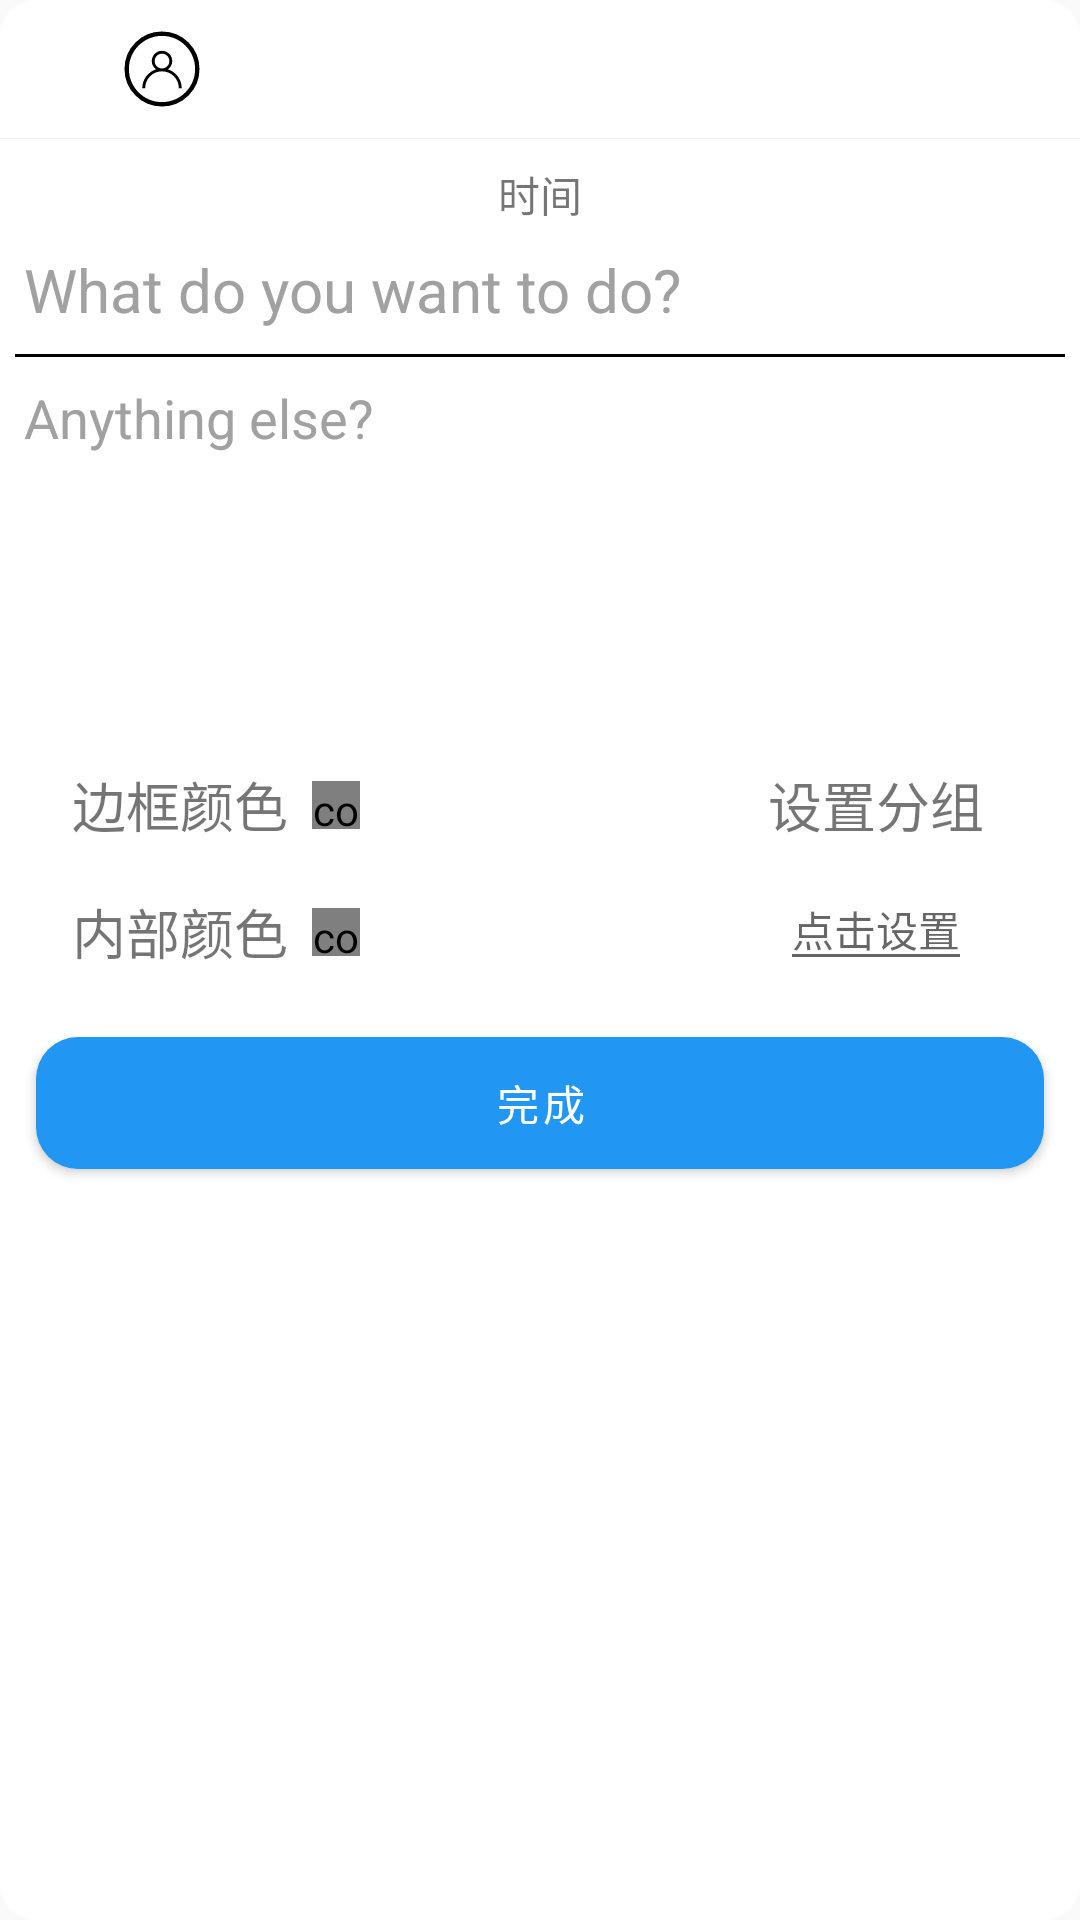

Icons on this 1080 x 1920 Android screen, each with the point to tap as [x,y]:
account: [162,69]
